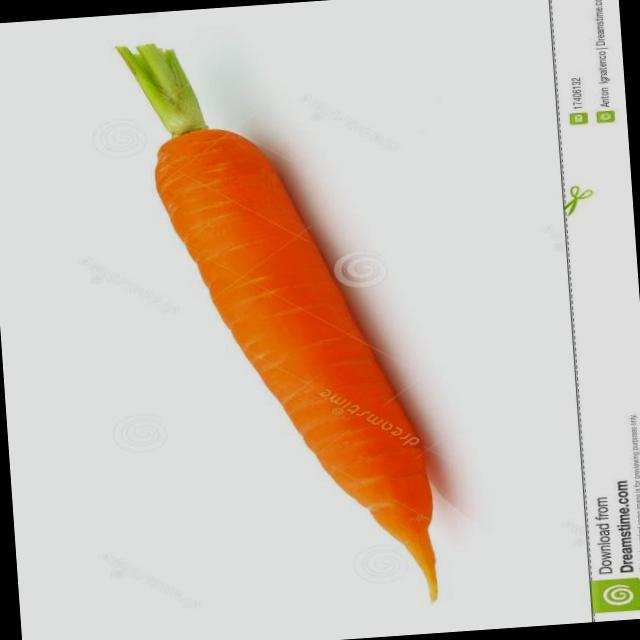carrot: (144, 114, 446, 550)
